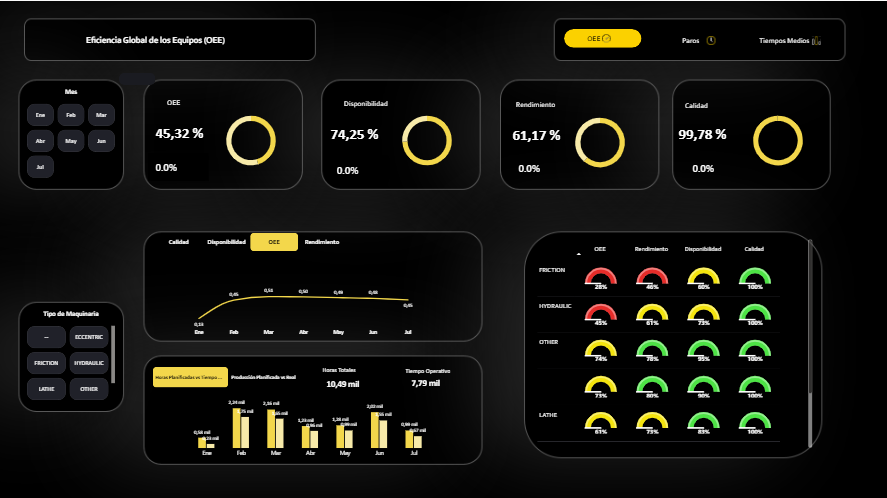

Layout of this report page (visuals, bound fields, positions):
{"tool":"powerbi","page":{"name":"OEE","canvas":[1920,1080],"ordinal":0},"visuals":[{"type":"advancedSlicerVisual","title":"Tipo de Maquinaria","fields":{"Values":["dim_machine.Machine Type"]},"box":[58.3,667.4,190.1,196.6],"z":0},{"type":"advancedSlicerVisual","title":"Mes","fields":{"Values":["dim_date.Mes"]},"box":[58.3,187.9,190.1,196.6],"z":1000},{"type":"shape","box":[185.8,60.5,354.2,49.7],"z":2000},{"type":"shape","box":[257.7,155.2,78.5,25.8],"z":4000},{"type":"shape","box":[360.7,196.6,179.3,47.5],"z":5000},{"type":"cardVisual","fields":{"Data":["_Medidas OEE.OEE %"]},"box":[319.7,244.1,161.2,83.8],"z":6000},{"type":"donutChart","fields":{"Y":["_Medidas OEE.OEE %","_Medidas OEE.OEE Diff"]},"box":[451.4,220.3,181.4,164.2],"z":7000},{"type":"shape","box":[743,205.2,180.3,31.7],"z":8000},{"type":"shape","box":[1114.6,207.4,180.3,31.7],"z":9000},{"type":"shape","box":[1479.6,209.5,180.3,31.7],"z":10000},{"type":"cardVisual","fields":{"Data":["_Medidas OEE.Disponibilidad %"]},"box":[697.7,246.2,161.2,83.8],"z":11000},{"type":"donutChart","fields":{"Y":["_Medidas OEE.Disponibilidad %","_Medidas OEE.Disponibilidad Diff"]},"box":[831.6,220.3,181.4,164.2],"z":12000},{"type":"cardVisual","fields":{"Data":["_Medidas OEE.Rendimiento %"]},"box":[1090.8,248.4,161.2,83.8],"z":13000},{"type":"cardVisual","fields":{"Data":["_Medidas OEE.Calidad %"]},"box":[1449.4,246.2,161.2,83.8],"z":14000},{"type":"donutChart","fields":{"Y":["_Medidas OEE.Rendimiento %","_Medidas OEE.Rendimiento Diff"]},"box":[1205.3,224.6,181.4,164.2],"z":15000},{"type":"donutChart","fields":{"Y":["_Medidas OEE.Calidad %","_Medidas OEE.Calidad Diff"]},"box":[1589.8,220.3,181.4,164.2],"z":16000},{"type":"actionButton","box":[1218.2,60.5,167.6,40.6],"z":17000},{"type":"actionButton","box":[1423.4,64.8,209.5,41],"z":18000},{"type":"actionButton","box":[1589.8,43.2,330.5,84.2],"z":19000},{"type":"cardVisual","fields":{"Data":["_Medidas OEE.OEE % chg"]},"box":[319.7,328.3,131.8,60.5],"z":19001},{"type":"cardVisual","fields":{"Data":["_Medidas OEE.Disponibilidad % chg"]},"box":[710.6,332.6,131.8,60.5],"z":19002},{"type":"cardVisual","fields":{"Data":["_Medidas OEE.Rendimiento % chg"]},"box":[1103.8,330.5,131.8,60.5],"z":19003},{"type":"cardVisual","fields":{"Data":["_Medidas OEE.Calidad % chg"]},"box":[1479.6,330.5,131.8,60.5],"z":19004},{"type":"advancedSlicerVisual","fields":{"Values":["Table.KPI"]},"box":[334.8,501.1,415.9,39.3],"z":19005},{"type":"lineClusteredColumnComboChart","fields":{"Category":["Month Cal table.Mes"],"Y":["Month Cal table.OEE Bar CF Highlight"],"Y2":["Month Cal table.OEE Line chart","Month Cal table.OEE CF Highlight"]},"box":[362.9,540,585.3,201.9],"z":19006},{"type":"advancedSlicerVisual","fields":{"Values":["Table (2).KPI"]},"box":[330.5,790.6,325,44.4],"z":19008},{"type":"cardVisual","fields":{"Data":["_Medidas OEE.Other KPI"]},"box":[689,790.6,131.8,73.4],"z":19009},{"type":"cardVisual","fields":{"Data":["_Medidas OEE.Other KPI title"]},"box":[680.4,766.8,141.1,59.6],"z":19010},{"type":"cardVisual","fields":{"Data":["_Medidas OEE.Other KPI 2 title"]},"box":[859.7,769,151.2,59.6],"z":19011},{"type":"cardVisual","fields":{"Data":["_Medidas OEE.Other KPI 2"]},"box":[872.6,801.4,97.2,49.7],"z":19012},{"type":"clusteredColumnChart","fields":{"Category":["dim_date.Mes"],"Y":["_Medidas OEE.Other KPI","_Medidas OEE.Other KPI 2"]},"box":[382.3,827.3,576.7,179.3],"z":19013},{"type":"pivotTable","fields":{"Rows":["dim_machine.Machine Type"],"Values":["_Medidas OEE.OEE Gauge with Outline dark","_Medidas OEE.Performance Gauge with Outline dark","_Medidas OEE.Availability Gauge with Outline dark","_Medidas OEE.Quality Gauge with Outline dark"]},"box":[1144.8,501.1,626.4,479.5],"z":19014}]}

Visuals, with their boxes in screenshot pixels (x1, y1, x2, y2), scaled from the page's 1920x1080 canvas onto the 887x498 screenshot:
"Tipo de Maquinaria" advancedSlicerVisual: (27,308,115,398)
"Mes" advancedSlicerVisual: (27,87,115,177)
shape: (86,28,249,51)
shape: (119,72,155,83)
shape: (167,91,249,113)
cardVisual - _Medidas OEE.OEE %: (148,113,222,151)
donutChart - _Medidas OEE.OEE % x _Medidas OEE.OEE Diff: (209,102,292,177)
shape: (343,95,427,109)
shape: (515,96,598,110)
shape: (684,97,767,111)
cardVisual - _Medidas OEE.Disponibilidad %: (322,114,397,152)
donutChart - _Medidas OEE.Disponibilidad % x _Medidas OEE.Disponibilidad Diff: (384,102,468,177)
cardVisual - _Medidas OEE.Rendimiento %: (504,115,578,153)
cardVisual - _Medidas OEE.Calidad %: (670,114,744,152)
donutChart - _Medidas OEE.Rendimiento % x _Medidas OEE.Rendimiento Diff: (557,104,641,179)
donutChart - _Medidas OEE.Calidad % x _Medidas OEE.Calidad Diff: (734,102,818,177)
actionButton: (563,28,640,47)
actionButton: (658,30,754,49)
actionButton: (734,20,886,59)
cardVisual - _Medidas OEE.OEE % chg: (148,151,209,179)
cardVisual - _Medidas OEE.Disponibilidad % chg: (328,153,389,181)
cardVisual - _Medidas OEE.Rendimiento % chg: (510,152,571,180)
cardVisual - _Medidas OEE.Calidad % chg: (684,152,744,180)
advancedSlicerVisual - Table.KPI: (155,231,347,249)
lineClusteredColumnComboChart - Month Cal table.Mes x Month Cal table.OEE Bar CF Highlight: (168,249,438,342)
advancedSlicerVisual - Table (2).KPI: (153,365,303,385)
cardVisual - _Medidas OEE.Other KPI: (318,365,379,398)
cardVisual - _Medidas OEE.Other KPI title: (314,354,380,381)
cardVisual - _Medidas OEE.Other KPI 2 title: (397,355,467,382)
cardVisual - _Medidas OEE.Other KPI 2: (403,370,448,392)
clusteredColumnChart - dim_date.Mes x _Medidas OEE.Other KPI: (177,381,443,464)
pivotTable - dim_machine.Machine Type x _Medidas OEE.OEE Gauge with Outline dark: (529,231,818,452)
